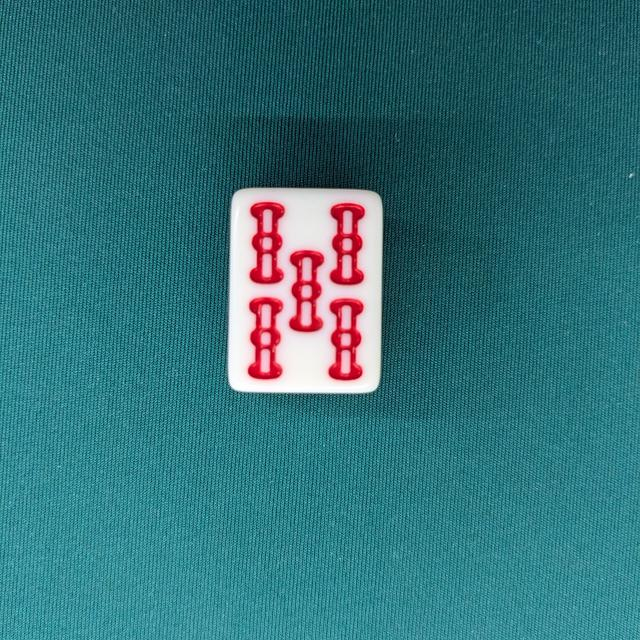D5s: (227, 187, 383, 395)
